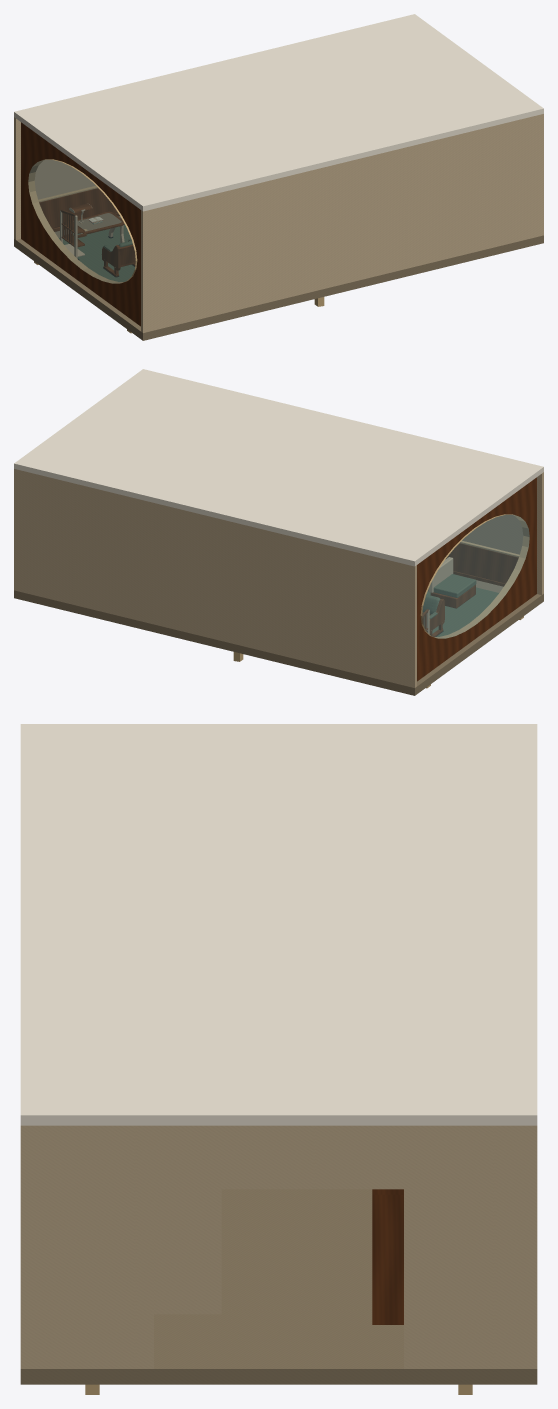
File: NG416_AtriumInterior_r001.glb
3 renders of one model, top to bottom at view 1: azimuth 30°, elevation 25°; view 2: azimuth 150°, elevation 25°; view 3: azimuth 270°, elevation 25°, orthographic. The views are drawn at different scales.
Parts seen in each view (by area): view 1: NG416_RuntimeBatch_001, NG416_OvalAtriumGlass, NG416_RuntimeBatch_002, NG416_RoomFloor, NGA_416_OutlookFloorInlay, NGA_416_South_LowPanel, NG416_RuntimeBatch_004, NG416_RuntimeBatch_017, NG416_RuntimeBatch_038, NG416_RuntimeBatch_018, NG416_LibraryStudyEdge__SINGLE_inset_stone_writing_surface; view 2: NG416_RuntimeBatch_001, NG416_OvalAtriumGlass, NG416_RuntimeBatch_002, NG416_RoomFloor, NGA_416_North_LowPanel, NG416_RuntimeBatch_004, NGA_416_OutlookFloorInlay, NGA_416_ViewSeat_Cushion, NGA_416_ViewSeat_Base; view 3: NG416_RuntimeBatch_001, NG416_RoomFloor, NG416_RuntimeBatch_002.
Part boxes in pixels (bbox=[...]): NG416_RuntimeBatch_001: bbox=[14, 14, 543, 332]; NG416_OvalAtriumGlass: bbox=[28, 160, 135, 283]; NG416_RuntimeBatch_002: bbox=[21, 122, 140, 326]; NG416_RoomFloor: bbox=[14, 216, 543, 340]; NGA_416_OutlookFloorInlay: bbox=[59, 225, 134, 281]; NGA_416_South_LowPanel: bbox=[39, 188, 117, 228]; NG416_RuntimeBatch_004: bbox=[28, 159, 324, 333]; NG416_RuntimeBatch_017: bbox=[60, 209, 124, 246]; NG416_RuntimeBatch_038: bbox=[102, 241, 135, 276]; NG416_RuntimeBatch_018: bbox=[60, 211, 124, 258]; NG416_LibraryStudyEdge__SINGLE_inset_stone_writing_surface: bbox=[77, 213, 121, 231]; NG416_RuntimeBatch_001: bbox=[14, 369, 543, 687]; NG416_OvalAtriumGlass: bbox=[422, 515, 529, 638]; NG416_RuntimeBatch_002: bbox=[417, 477, 536, 681]; NG416_RoomFloor: bbox=[14, 580, 543, 695]; NGA_416_North_LowPanel: bbox=[446, 543, 518, 583]; NG416_RuntimeBatch_004: bbox=[233, 514, 529, 688]; NGA_416_OutlookFloorInlay: bbox=[426, 587, 498, 636]; NGA_416_ViewSeat_Cushion: bbox=[433, 574, 476, 597]; NGA_416_ViewSeat_Base: bbox=[430, 585, 475, 608]; NG416_RuntimeBatch_001: bbox=[20, 724, 537, 1368]; NG416_RoomFloor: bbox=[20, 1189, 537, 1384]; NG416_RuntimeBatch_002: bbox=[372, 1189, 403, 1324].
Bounding box in the file's own units: 12.9 × 4.91 × 7.2.
36 materials, 20 textured.
